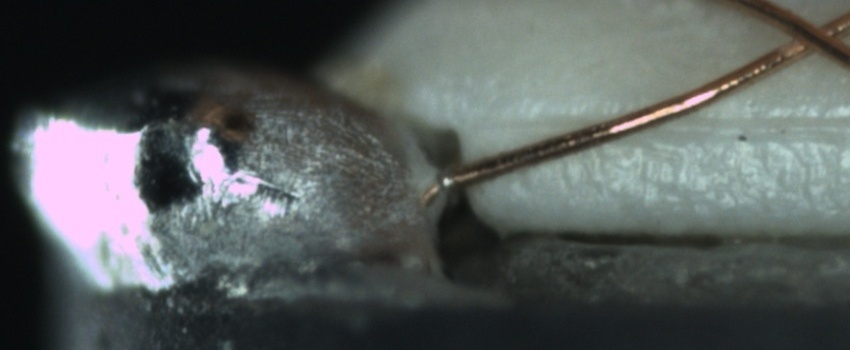CL: (768, 5, 847, 64)
DL: (496, 97, 849, 152)
